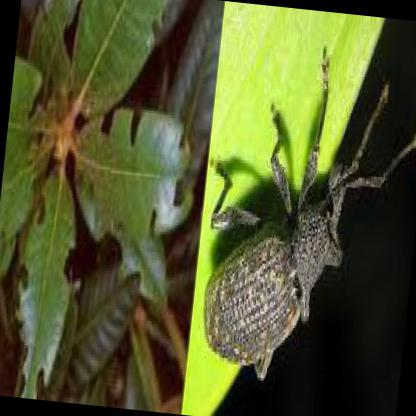ash weevil: (203, 50, 416, 379)
